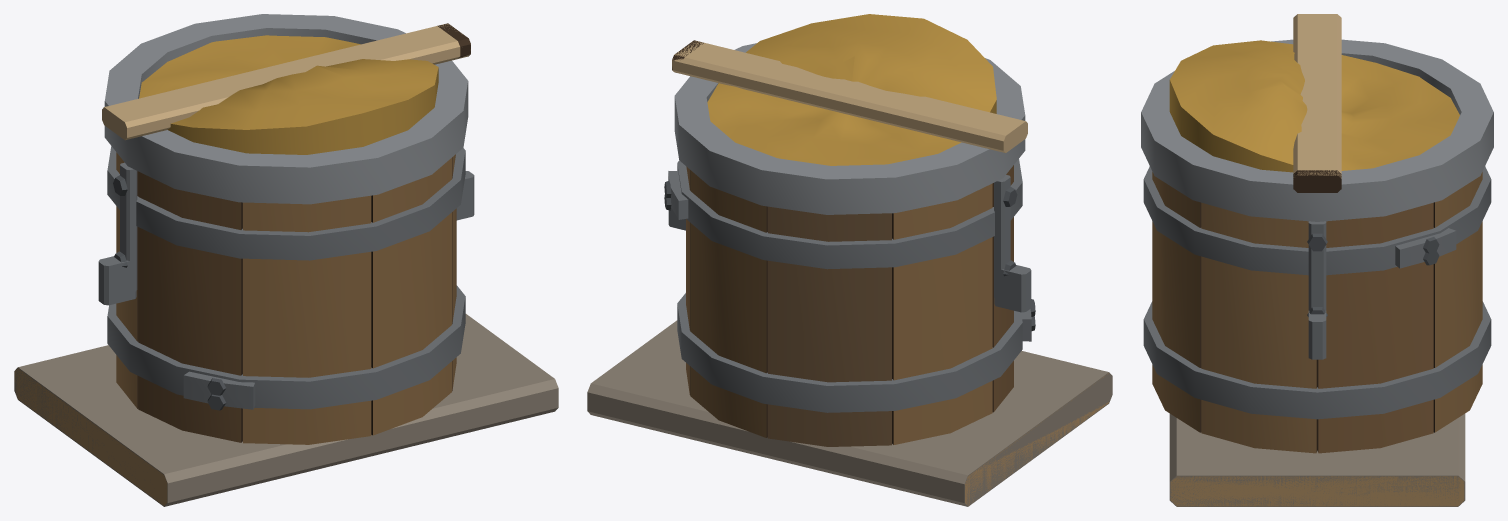
Rendered from SM_LPD_Crate_MeasureBushel_01.fbx.
3 renders of one model, left to right at view 1: azimuth 30°, elevation 25°; view 2: azimuth 150°, elevation 25°; view 3: azimuth 270°, elevation 25°, orthographic. The views are drawn at different scales.
Parts seen in each view (by area): view 1: SM_LPD_Crate_MeasureBushel_01; view 2: SM_LPD_Crate_MeasureBushel_01; view 3: SM_LPD_Crate_MeasureBushel_01.
Part boxes in pixels (left/top/right/bottom): SM_LPD_Crate_MeasureBushel_01: left=14, top=14, right=558, bottom=506; SM_LPD_Crate_MeasureBushel_01: left=587, top=14, right=1112, bottom=506; SM_LPD_Crate_MeasureBushel_01: left=1141, top=14, right=1493, bottom=506.
Bounding box in the file's own units: 0.5 × 0.4278 × 0.406.
